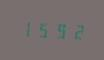five: (34, 19, 49, 39)
nine: (50, 19, 65, 40)
one: (18, 18, 33, 39)
two: (66, 20, 81, 41)
